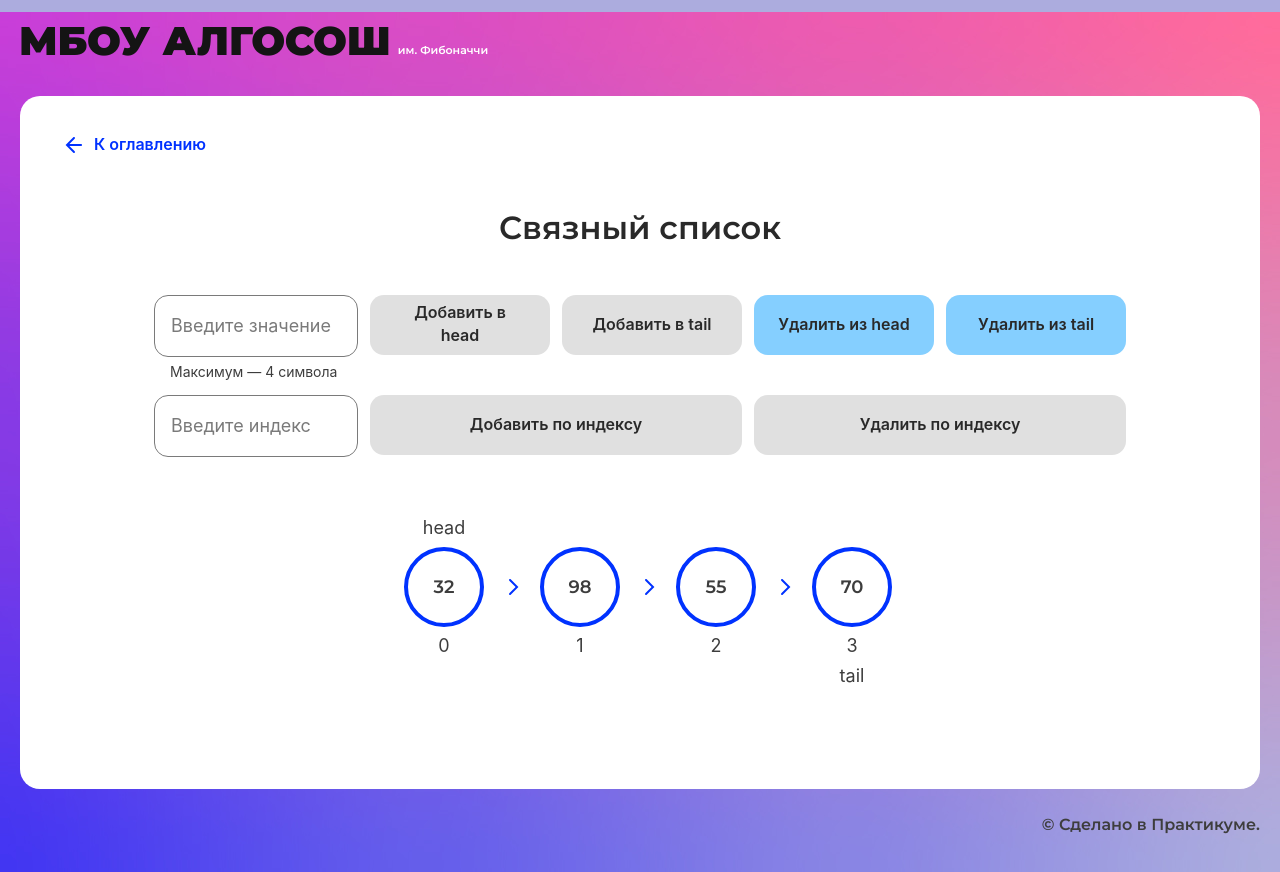
Test: linked-list visualizer work › add linked-list item › should show animation while adds by index
This screenshot has width=1280, height=872.
In the field with test id "valueInput": (256, 326) x1=154 y1=295 x2=358 y2=357, type "777"
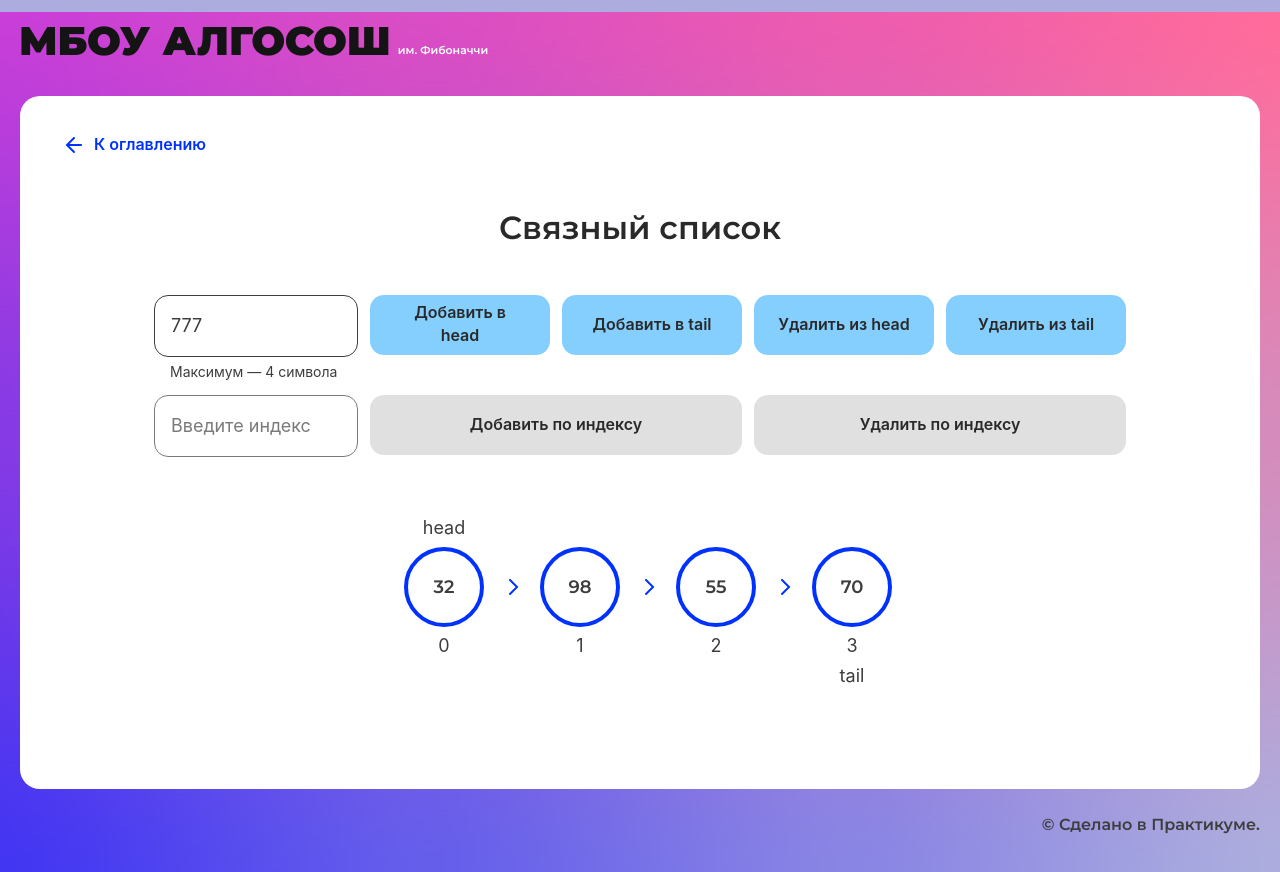
In the number field with test id "indexInput": (256, 426) x1=154 y1=395 x2=358 y2=457, type "1"
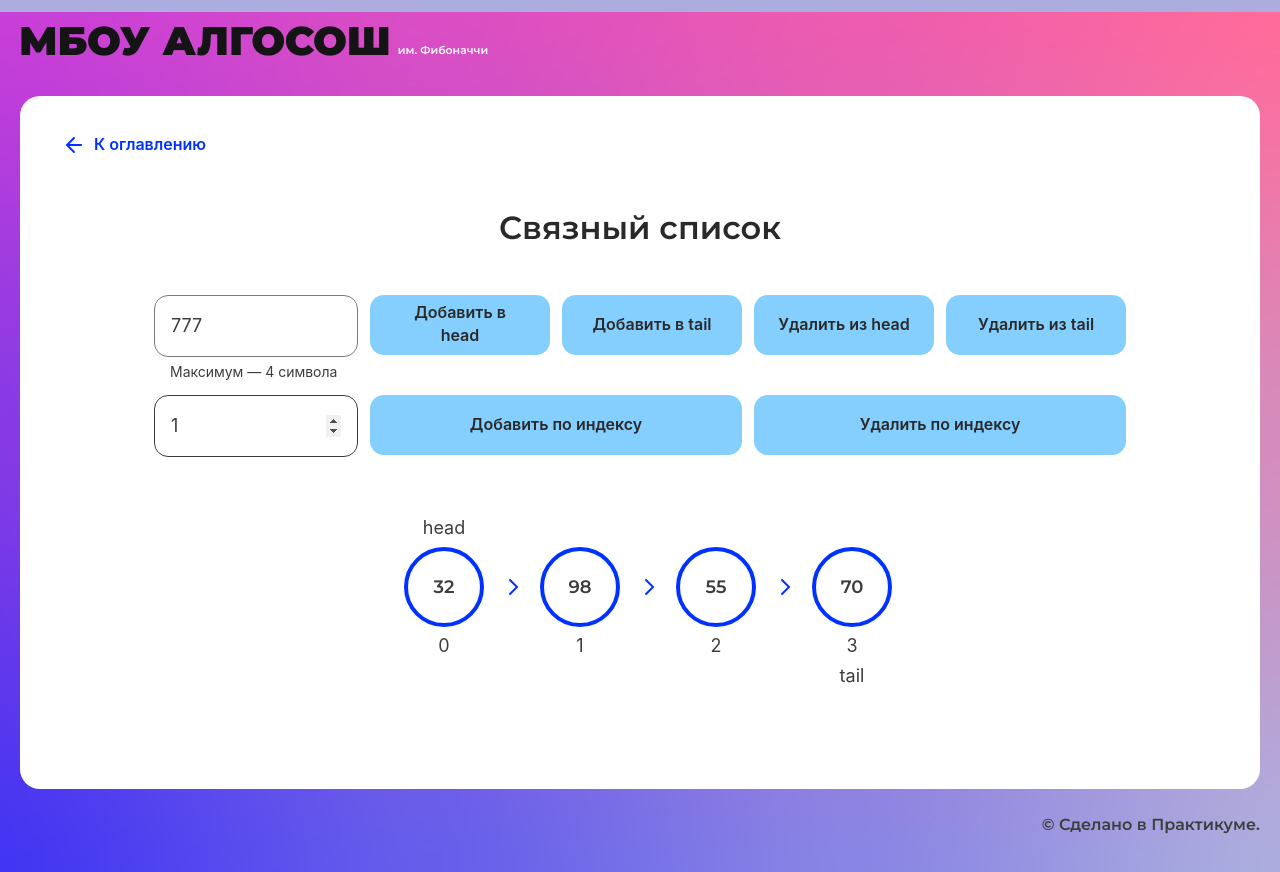
Click the button with test id "addByIndex": (556, 425) x1=370 y1=395 x2=742 y2=455
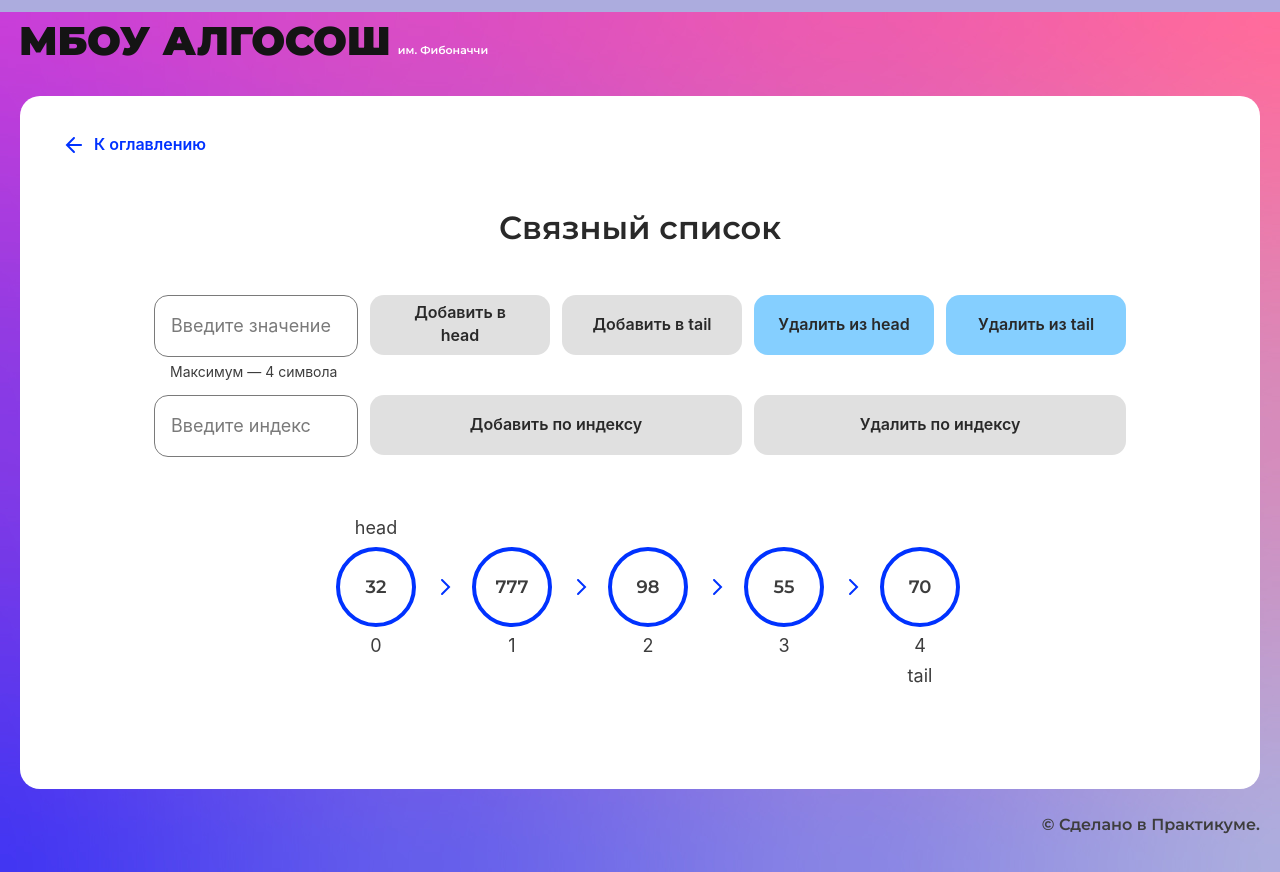
Expected: the text with test id "circle-value" reads "777", x1=496 y1=576 x2=529 y2=598
